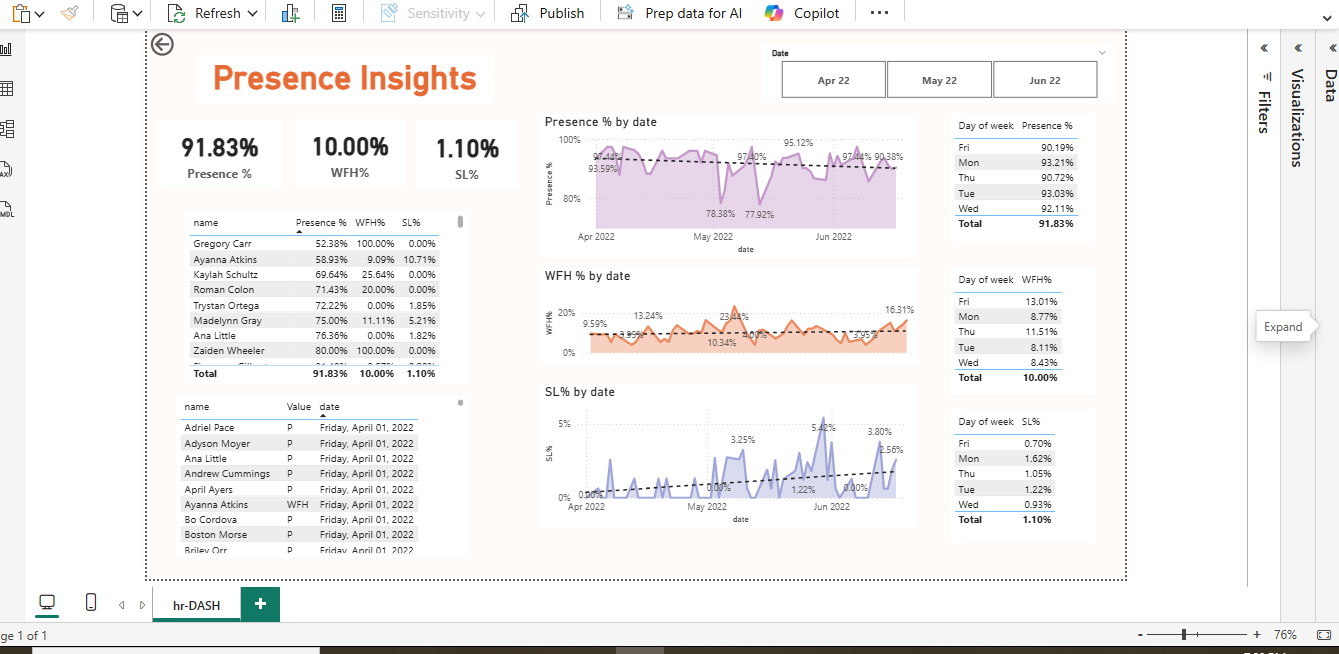

Layout of this report page (visuals, bound fields, positions):
{"tool":"powerbi","page":{"name":"hr-DASH","canvas":[1280,720],"ordinal":0},"visuals":[{"type":"card","fields":{"Values":["Measure Table.SL%"]},"box":[352.7,119,133.7,89.6],"z":0},{"type":"card","fields":{"Values":["Measure Table.Presence %"]},"box":[14.7,119,161.6,88.2],"z":1000},{"type":"slicer","fields":{"Values":["final data.month"]},"box":[805.2,20.6,462.9,76.4],"z":2000},{"type":"card","fields":{"Values":["Measure Table.WFH%"]},"box":[194,117.6,144,88.2],"z":3000},{"type":"tableEx","fields":{"Values":["final data.name","Measure Table.Presence %","Measure Table.WFH%","Measure Table.SL%"]},"box":[50,238,370.3,226.3],"z":4000},{"type":"textbox","box":[63.8,33.6,389.7,63.8],"z":5000},{"type":"actionButton","box":[0,0,100,40],"z":6000},{"type":"tableEx","fields":{"Values":["final data.name","final data.Value","final data.date"]},"box":[38.2,479,382,211.6],"z":7000},{"type":"areaChart","fields":{"Y":["Measure Table.Presence %"],"Category":["final data.date"]},"box":[515.8,111.7,493.7,188.1],"z":8000},{"type":"areaChart","title":"WFH % by date","fields":{"Category":["final data.date"],"Y":["Measure Table.WFH%"]},"box":[515.8,313,493.7,124.9],"z":9000},{"type":"areaChart","fields":{"Category":["final data.date"],"Y":["Measure Table.SL%"]},"box":[515.8,464.3,493.7,188.1],"z":10000},{"type":"tableEx","fields":{"Values":["final data.Day of week","Measure Table.Presence %"]},"box":[1050.6,111.7,191,167.5],"z":10001},{"type":"tableEx","fields":{"Values":["final data.Day of week","Measure Table.WFH%"]},"box":[1050.6,313,191,166],"z":10002},{"type":"tableEx","fields":{"Values":["final data.Day of week","Measure Table.SL%"]},"box":[1050.6,498.1,191,173.4],"z":10003}]}

Visuals, with their boxes on the page's 1280x720 design canvas (x1, y1, x2, y2). These are canvas units, not pixel positions in the 1339x654 screenshot, which may show the page scaled, cropped or inside an application window:
card - Measure Table.SL%: x1=353, y1=119, x2=486, y2=209
card - Measure Table.Presence %: x1=15, y1=119, x2=176, y2=207
slicer - final data.month: x1=805, y1=21, x2=1268, y2=97
card - Measure Table.WFH%: x1=194, y1=118, x2=338, y2=206
tableEx - final data.name x Measure Table.Presence %: x1=50, y1=238, x2=420, y2=464
textbox: x1=64, y1=34, x2=454, y2=97
actionButton: x1=0, y1=0, x2=100, y2=40
tableEx - final data.name x final data.Value: x1=38, y1=479, x2=420, y2=691
areaChart - Measure Table.Presence % x final data.date: x1=516, y1=112, x2=1010, y2=300
"WFH % by date" areaChart: x1=516, y1=313, x2=1010, y2=438
areaChart - final data.date x Measure Table.SL%: x1=516, y1=464, x2=1010, y2=652
tableEx - final data.Day of week x Measure Table.Presence %: x1=1051, y1=112, x2=1242, y2=279
tableEx - final data.Day of week x Measure Table.WFH%: x1=1051, y1=313, x2=1242, y2=479
tableEx - final data.Day of week x Measure Table.SL%: x1=1051, y1=498, x2=1242, y2=672
